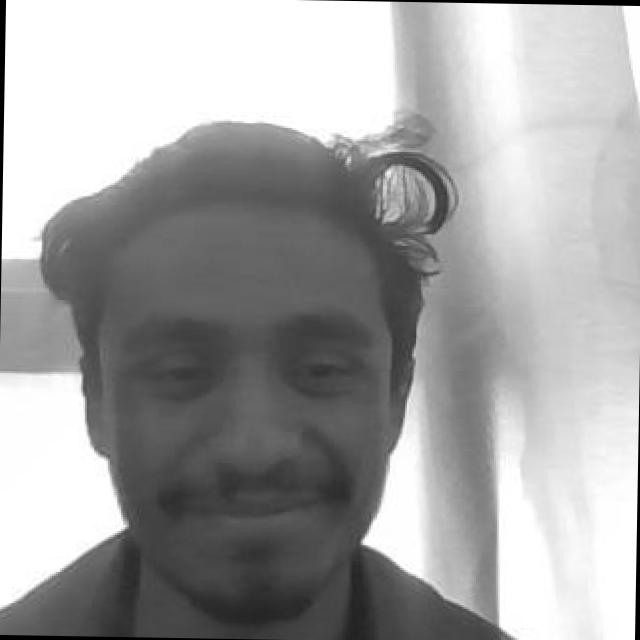Focused: (52, 147, 414, 640)
